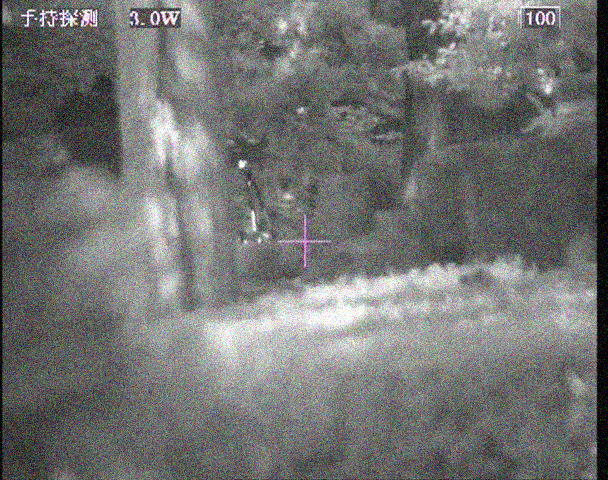my: (237, 159, 247, 169)
